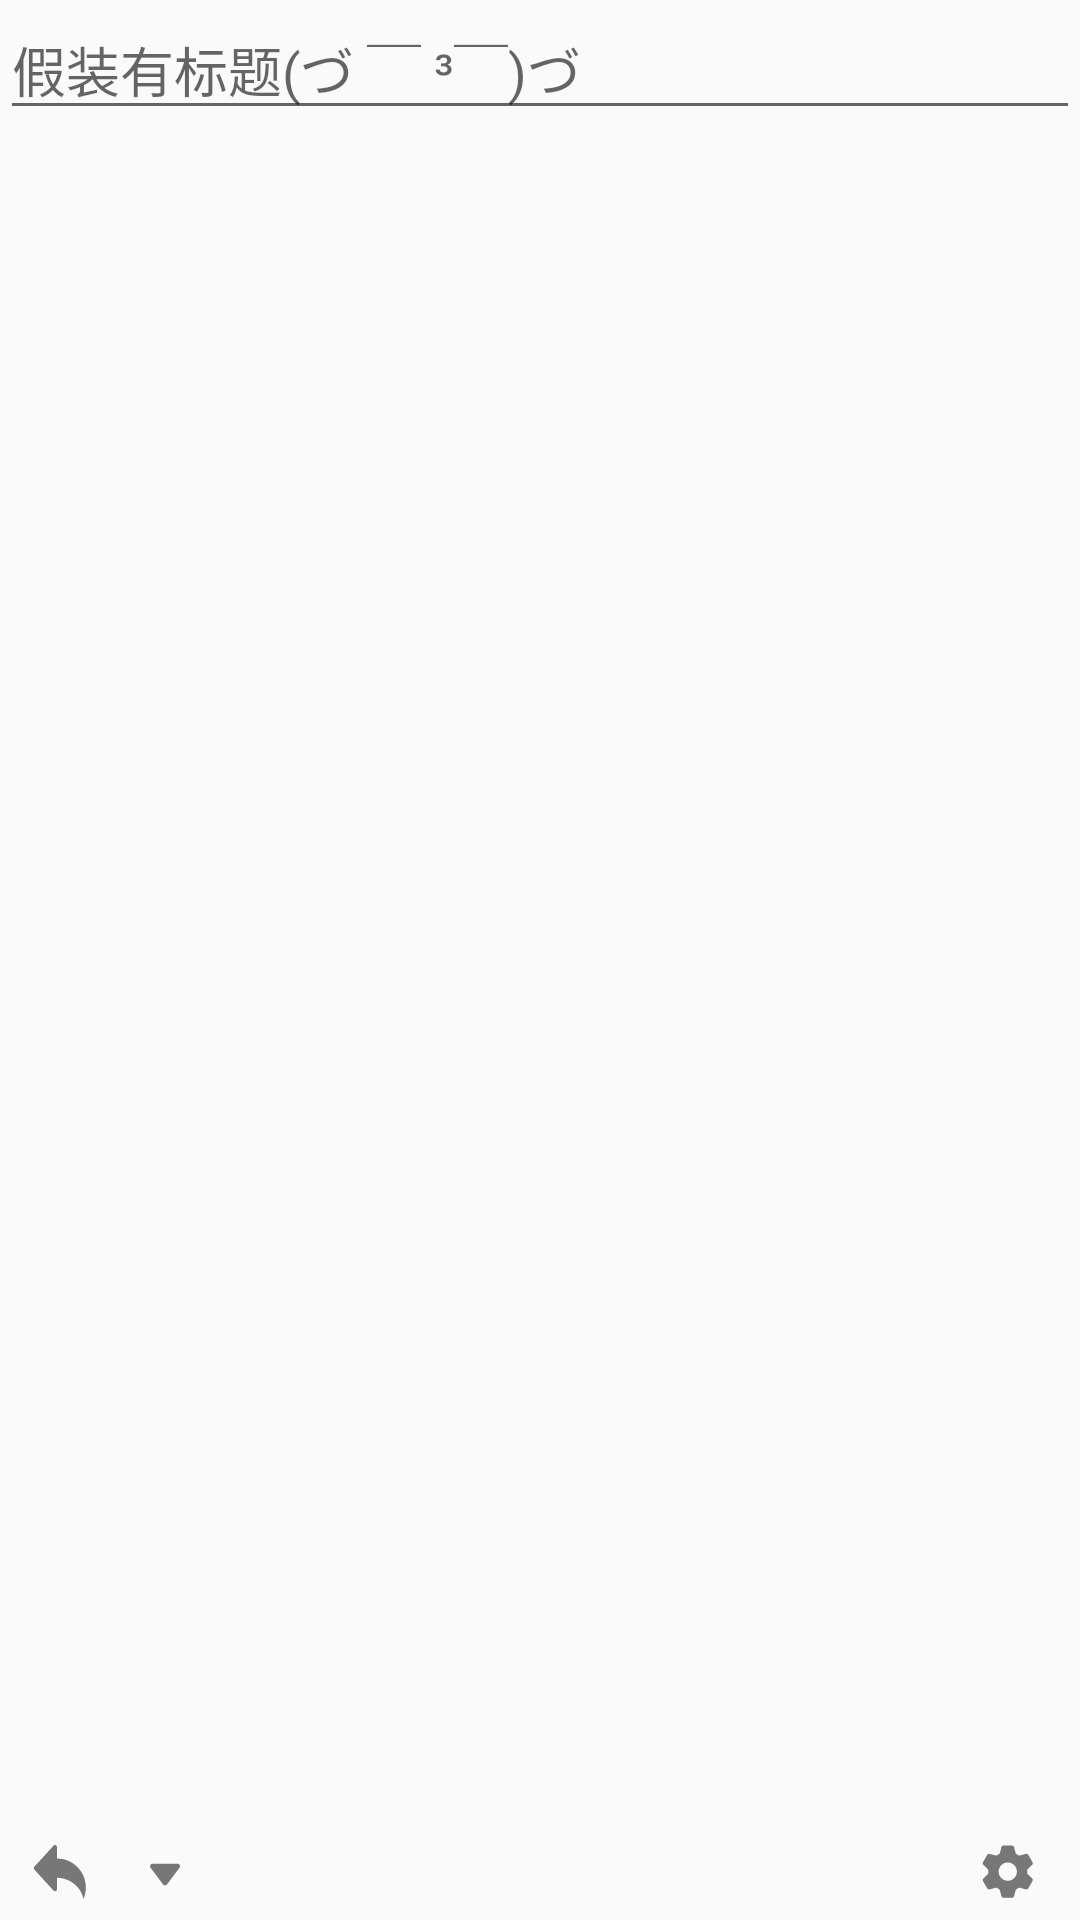

Locate icon controls on the screen. Image size 1080*1920, boxes as Rect(x1, y1, x2, y2).
back: Rect(34, 1845, 86, 1899)
down: Rect(150, 1863, 180, 1886)
